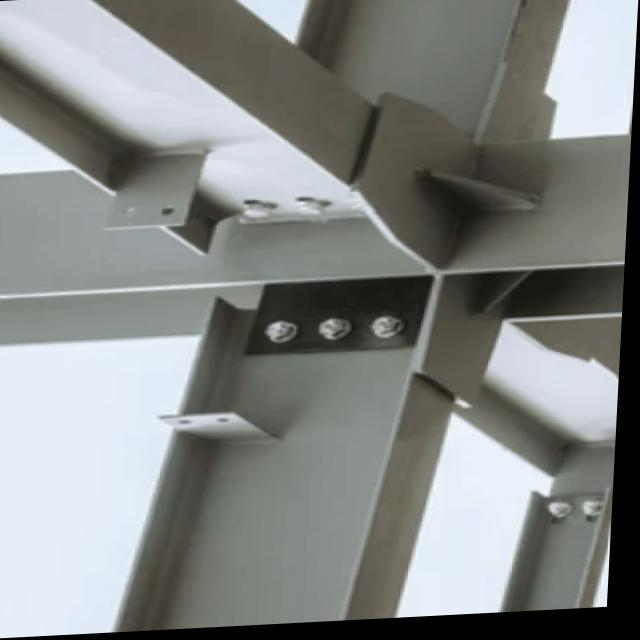Regular bolt: (371, 316, 414, 348), (264, 323, 313, 347), (319, 319, 355, 347), (550, 504, 583, 527), (590, 503, 618, 526)
